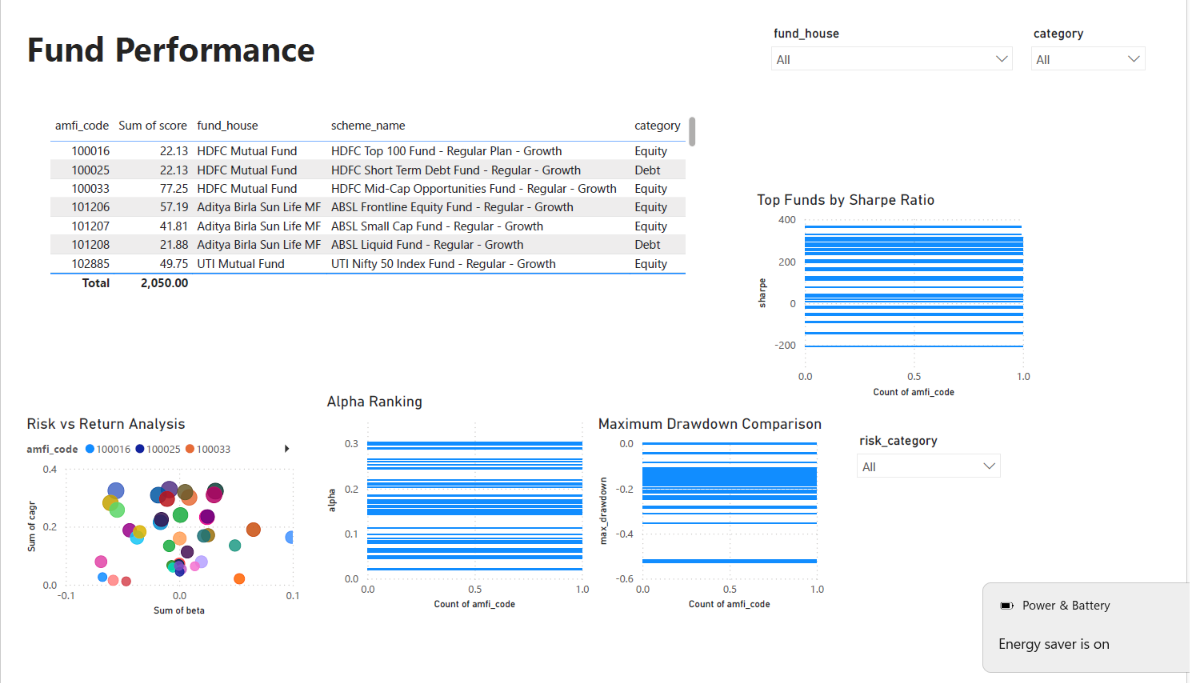

The page's visual inventory and layout, read from the dashboard file:
{"tool":"powerbi","page":{"name":"Fund Performance","canvas":[1280,720],"ordinal":1},"visuals":[{"type":"tableEx","fields":{"Values":["fund_scorecard.amfi_code","Sum(fund_scorecard.score)","01_fund_master.fund_house","01_fund_master.scheme_name","01_fund_master.category"]},"box":[26.2,101.2,733.8,206.2],"z":0},{"type":"scatterChart","title":"Risk vs Return Analysis","fields":{"X":["Sum(fund_scorecard.beta)"],"Y":["Sum(fund_scorecard.cagr)"],"Size":["Sum(fund_scorecard.score)"],"Series":["fund_scorecard.amfi_code"]},"box":[0,440,316.2,231.2],"z":1000},{"type":"clusteredBarChart","title":"Top Funds by Sharpe Ratio","fields":{"Y":["CountNonNull(fund_scorecard.amfi_code)"],"Category":["fund_scorecard.sharpe"]},"box":[817.5,188.8,316.2,237.5],"z":2000},{"type":"barChart","title":"Alpha Ranking","fields":{"Y":["CountNonNull(fund_scorecard.amfi_code)"],"Category":["fund_scorecard.alpha"]},"box":[336.2,415,303.8,248.8],"z":3000},{"type":"barChart","title":"Maximum Drawdown Comparison","fields":{"Y":["CountNonNull(fund_scorecard.amfi_code)"],"Category":["fund_scorecard.max_drawdown"]},"box":[640,440,262.5,223.8],"z":4000},{"type":"slicer","fields":{"Values":["01_fund_master.fund_house"]},"box":[828.8,0,291.2,163.8],"z":5000},{"type":"slicer","fields":{"Values":["01_fund_master.category"]},"box":[1120,0,147.5,241.2],"z":6000},{"type":"slicer","fields":{"Values":["01_fund_master.risk_category"]},"box":[925,456.2,181.2,201.2],"z":7000},{"type":"textbox","box":[0,0,438.8,88.8],"z":7001}]}

Visuals, with their boxes on the page's 1280x720 design canvas (x1, y1, x2, y2). These are canvas units, not pixel positions in the 1190x683 screenshot, which may show the page scaled, cropped or inside an application window:
tableEx - fund_scorecard.amfi_code x Sum(fund_scorecard.score): crop(26, 101, 760, 307)
"Risk vs Return Analysis" scatterChart: crop(0, 440, 316, 671)
"Top Funds by Sharpe Ratio" clusteredBarChart: crop(818, 189, 1134, 426)
"Alpha Ranking" barChart: crop(336, 415, 640, 664)
"Maximum Drawdown Comparison" barChart: crop(640, 440, 902, 664)
slicer - 01_fund_master.fund_house: crop(829, 0, 1120, 164)
slicer - 01_fund_master.category: crop(1120, 0, 1268, 241)
slicer - 01_fund_master.risk_category: crop(925, 456, 1106, 657)
textbox: crop(0, 0, 439, 89)
